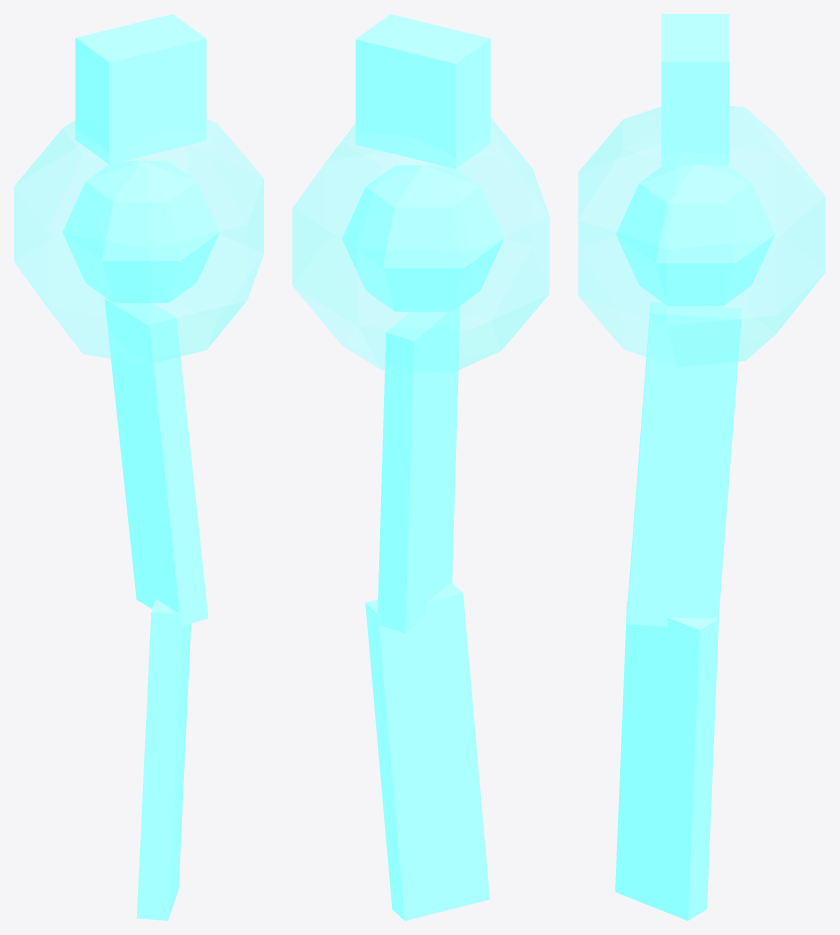
File: gear_norigae_t5_L.glb
3 renders of one model, left to right at view 1: azimuth 30°, elevation 25°; view 2: azimuth 150°, elevation 25°; view 3: azimuth 270°, elevation 25°, orthographic. The views are drawn at different scales.
Parts seen in each view (by area): view 1: gear_norigae_t5_L; view 2: gear_norigae_t5_L; view 3: gear_norigae_t5_L.
Boxes of the visible parts, x1,y1,x2,y2 form: gear_norigae_t5_L: (14,14,263,920); gear_norigae_t5_L: (292,14,549,920); gear_norigae_t5_L: (578,14,825,920).
Size of the model in its own units: 0.1113 by 0.4195 by 0.1085.
